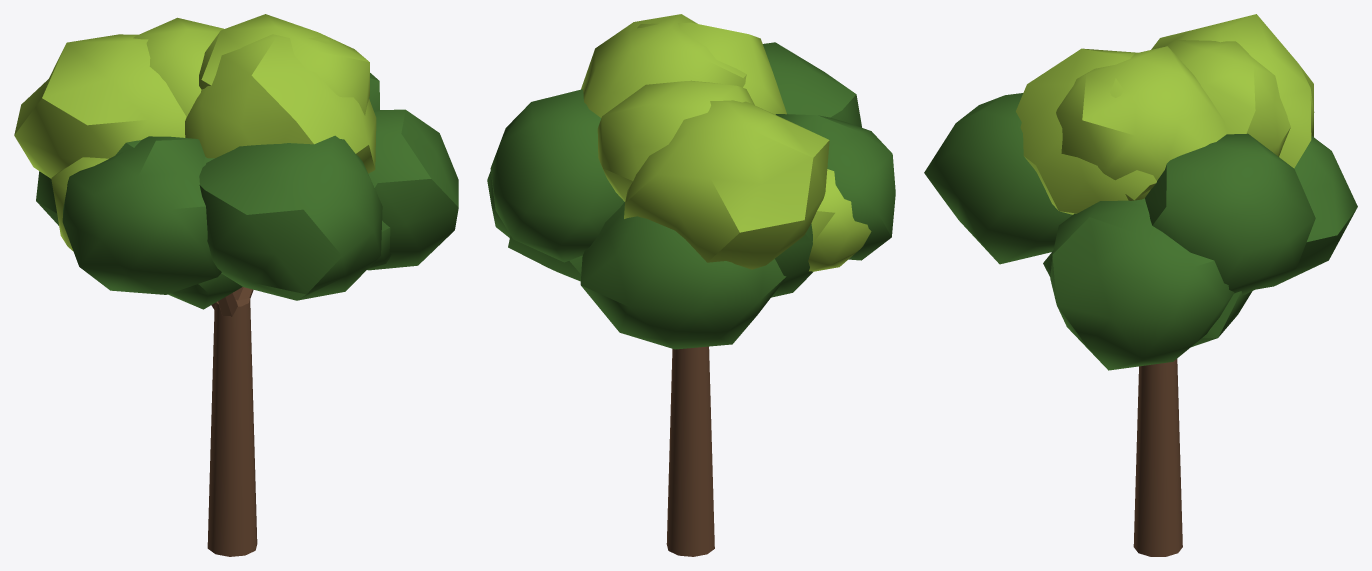
Rendered from tree_b.fbx.
The picture shows the model from 3 angles, left to right: view 1: azimuth 30°, elevation 25°; view 2: azimuth 150°, elevation 25°; view 3: azimuth 270°, elevation 25°; orthographic projection. The views are drawn at different scales.
Visible parts, largest first — view 1: tree_b; view 2: tree_b; view 3: tree_b.
Part boxes in pixels (x1,y1,x2,y2): tree_b: (14, 14, 458, 556); tree_b: (487, 14, 895, 556); tree_b: (924, 14, 1357, 556).
Size of the model in its own units: 4.9 by 6.33 by 4.94.
